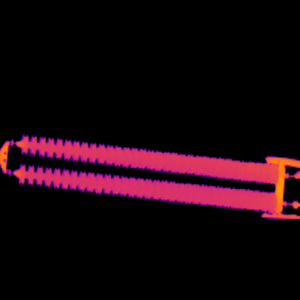insulator: (15, 130, 279, 186), (12, 163, 277, 213)
